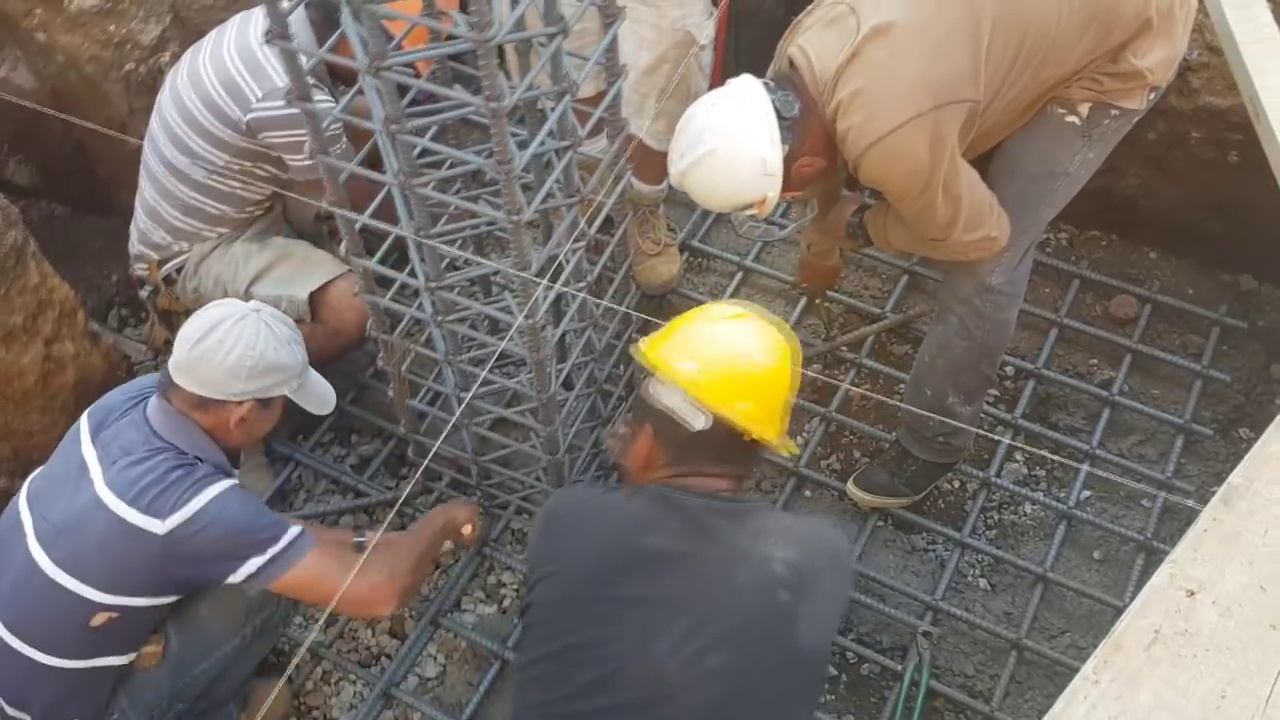helmet: (628, 301, 798, 452), (670, 71, 789, 218), (374, 4, 462, 79)
helmet-off: (153, 297, 333, 472)
helmet-on: (612, 300, 799, 510), (670, 71, 851, 216), (272, 18, 461, 85)
person: (667, 0, 1202, 491), (3, 301, 478, 720), (480, 300, 844, 716), (118, 0, 480, 341), (491, 0, 710, 270)
